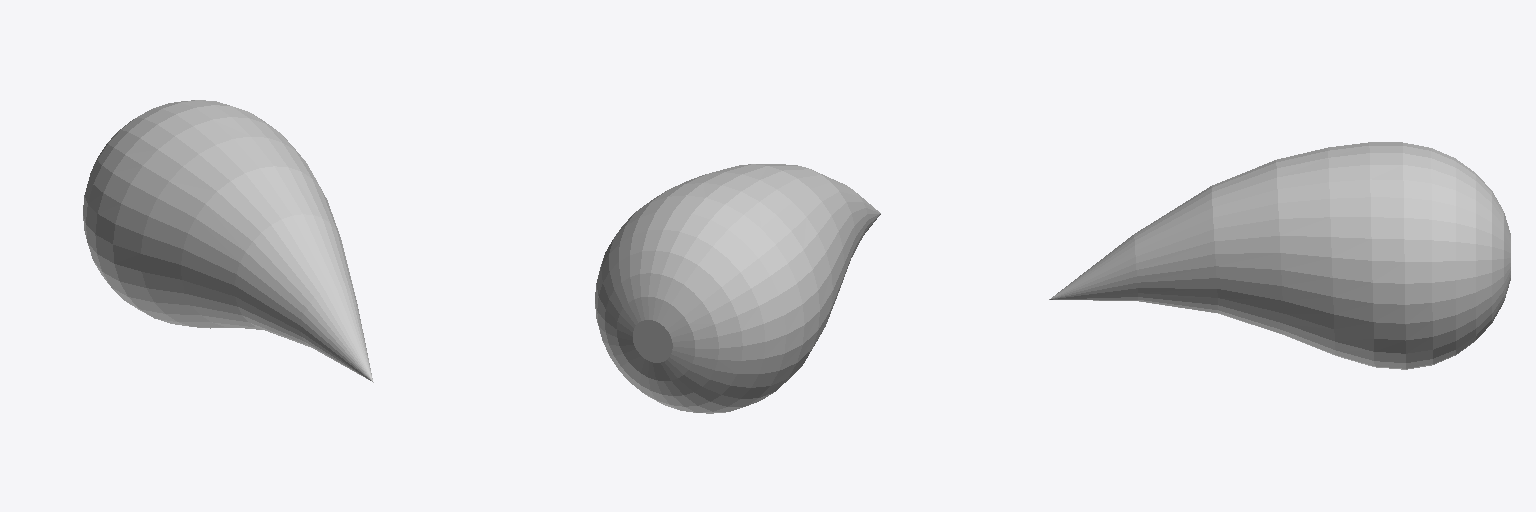
File: drop2.obj
3 views of the same model, side by side, from view 1: azimuth 30°, elevation 25°; view 2: azimuth 150°, elevation 25°; view 3: azimuth 270°, elevation 25° (orthographic).
Visible parts, largest first — view 1: obj_0.001; view 2: obj_0.001; view 3: obj_0.001.
Boxes of the visible parts, box(x1,y1,x2,y2) form: obj_0.001: box(83, 100, 373, 382); obj_0.001: box(595, 164, 880, 413); obj_0.001: box(1049, 142, 1510, 369).
Size of the model in its own units: 0.7939 by 0.7948 by 1.61.